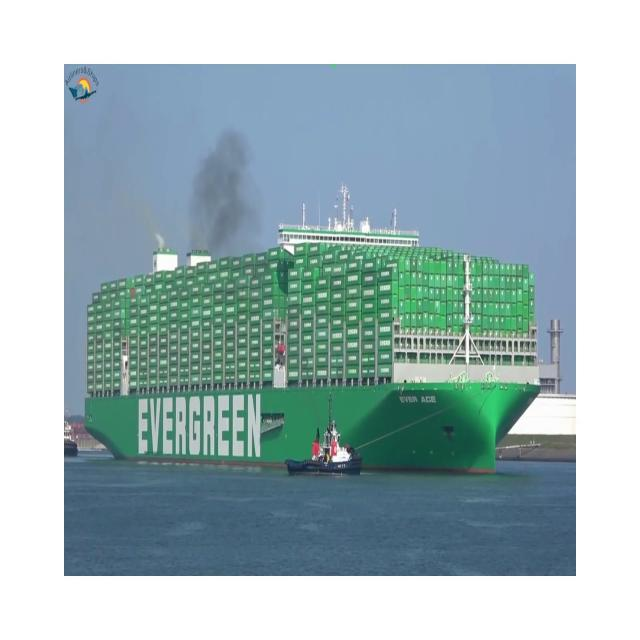OCR: (132, 388, 267, 471), (392, 386, 440, 412)
